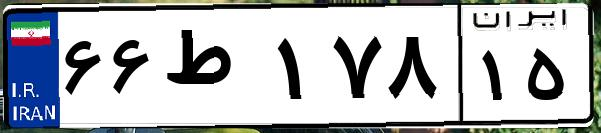1: (270, 28, 330, 110), (475, 38, 525, 113)
5: (525, 38, 570, 115)
6: (57, 26, 110, 100), (110, 28, 158, 98)
7: (330, 28, 385, 110)
8: (385, 28, 445, 110)
ط: (158, 20, 270, 120)
